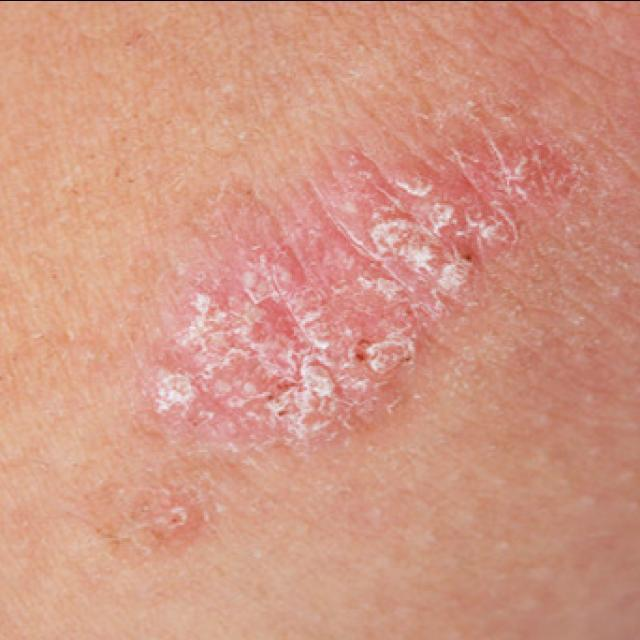Psoriasis: (82, 103, 582, 571)
